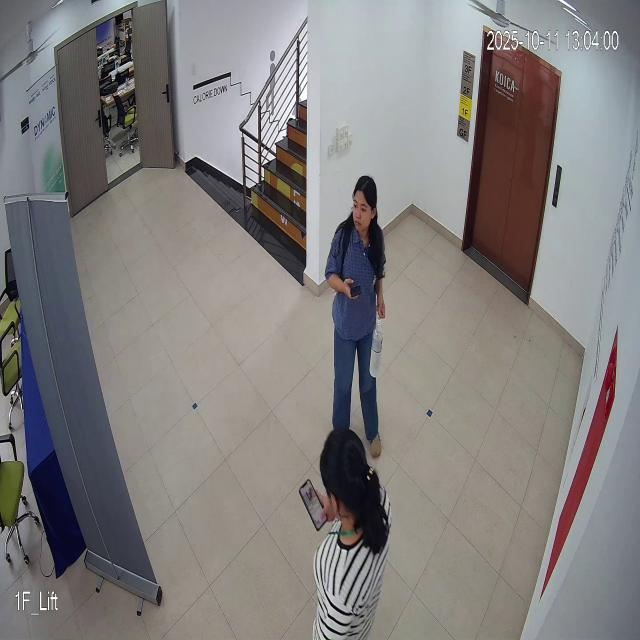face: (347, 158, 385, 258)
